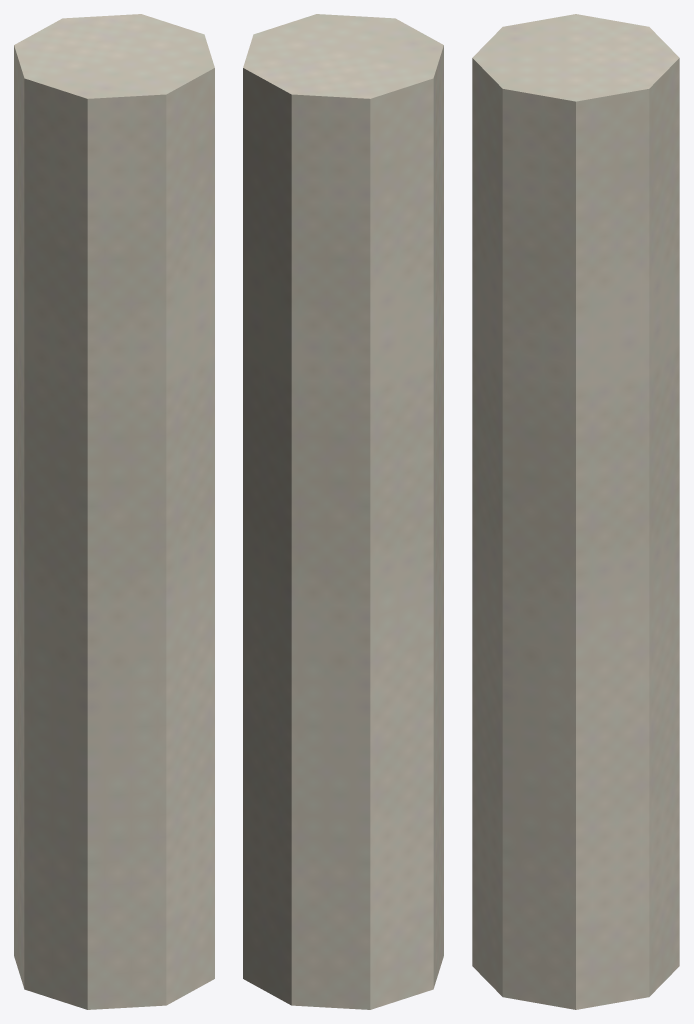
Rendered from CigretteUnlit.fbx.
The picture shows the model from 3 angles, left to right: view 1: azimuth 30°, elevation 25°; view 2: azimuth 150°, elevation 25°; view 3: azimuth 270°, elevation 25°; orthographic projection.
Visible parts, largest first — view 1: CigretteUnlit; view 2: CigretteUnlit; view 3: CigretteUnlit.
Part boxes in pixels (<box>): CigretteUnlit: <box>14,14,214,1009</box>; CigretteUnlit: <box>243,14,443,1009</box>; CigretteUnlit: <box>472,14,679,1009</box>.
Size of the model in its own units: 0.0158 by 0.0766 by 0.0158.
1 material, 1 textured.
